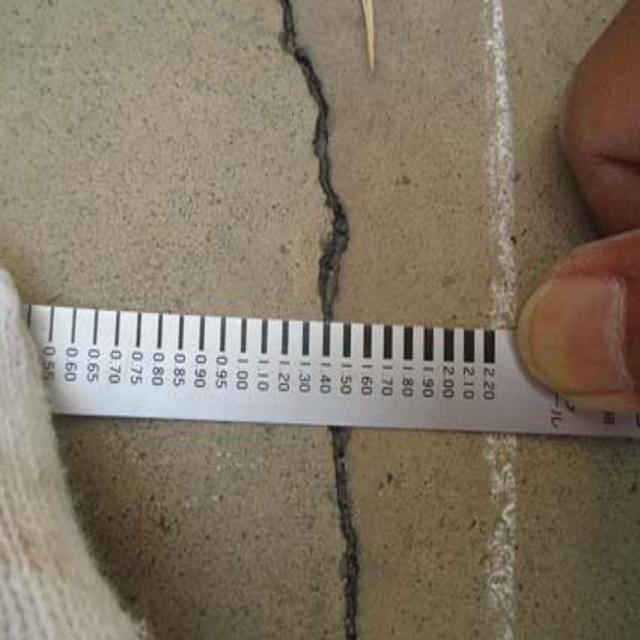crack: (270, 5, 393, 322), (308, 428, 372, 640)
